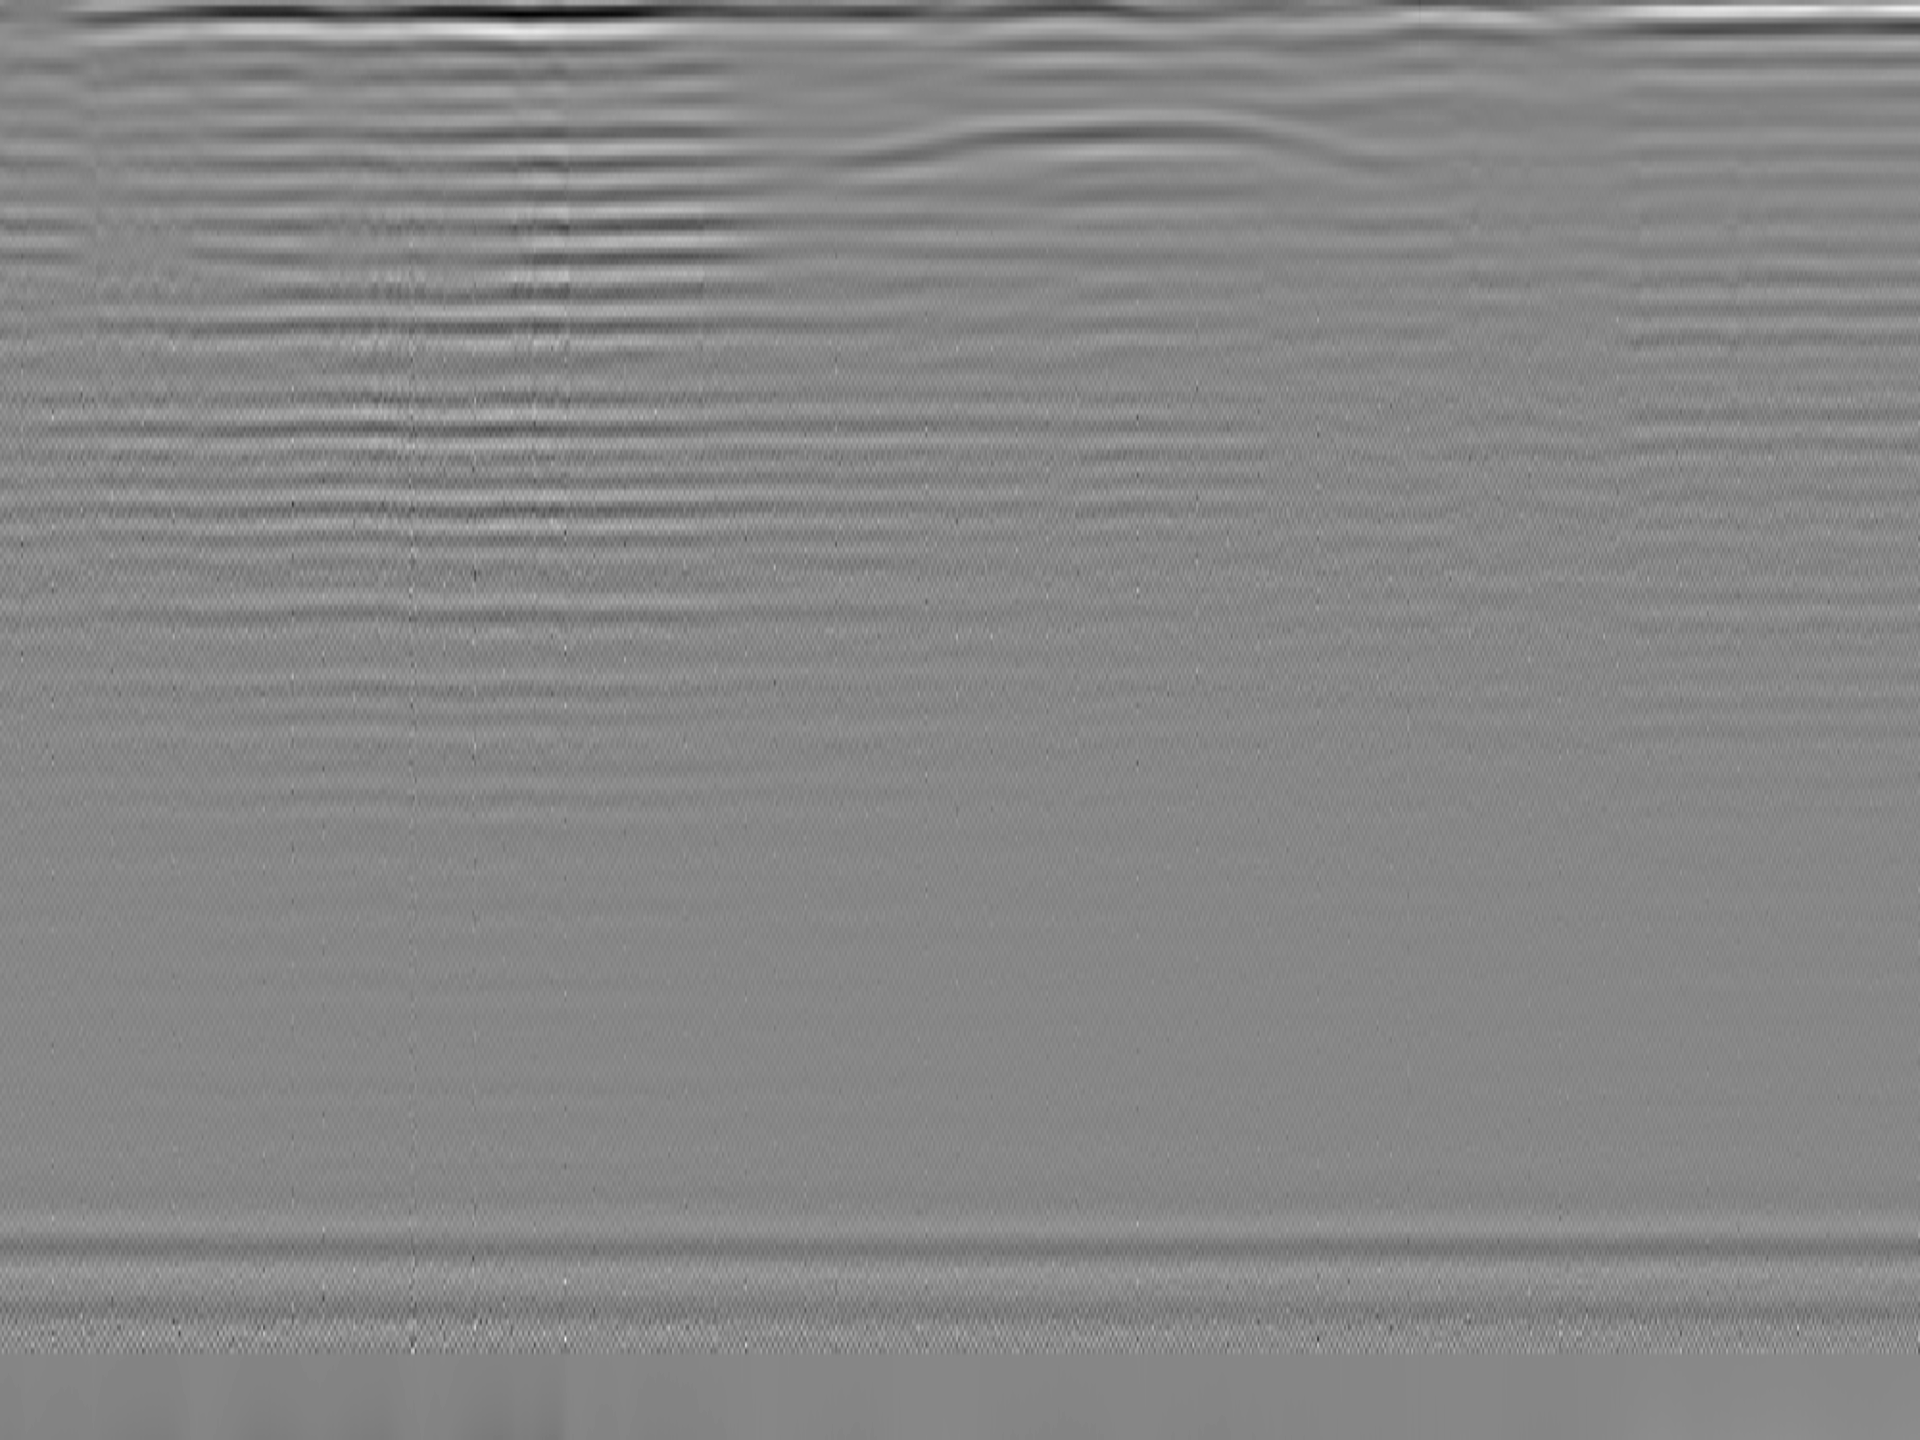Tunnel: (807, 106, 1469, 182)
